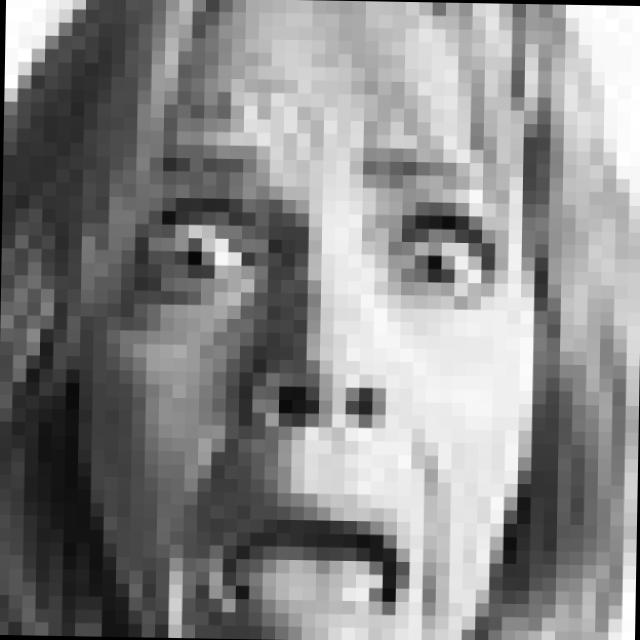fear: (121, 138, 506, 640)
